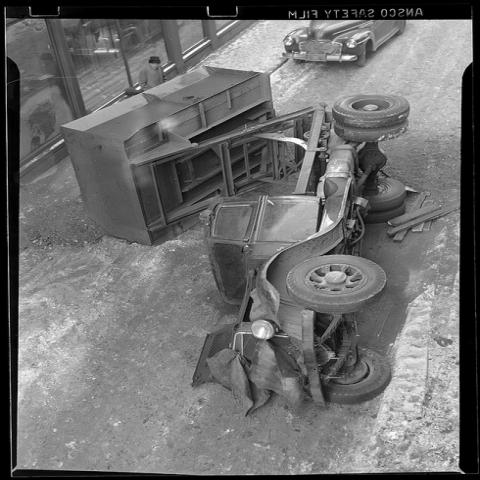car: (286, 20, 409, 66)
truck: (181, 96, 411, 409)
